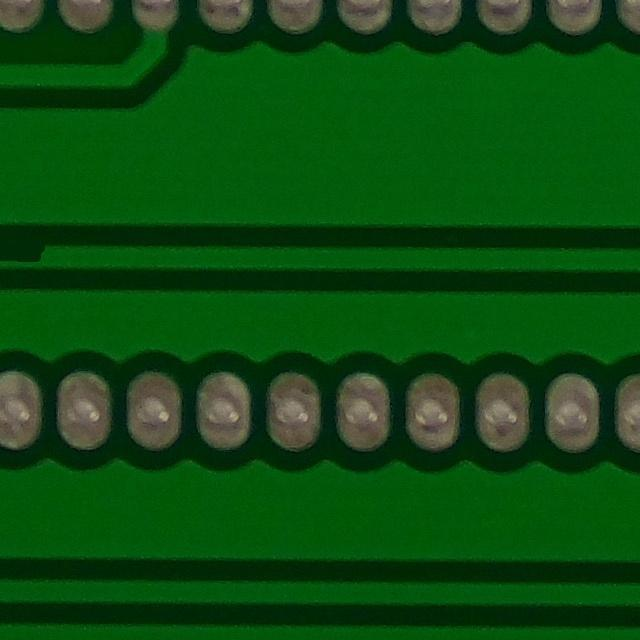mouse_bite: (0, 228, 62, 287)
